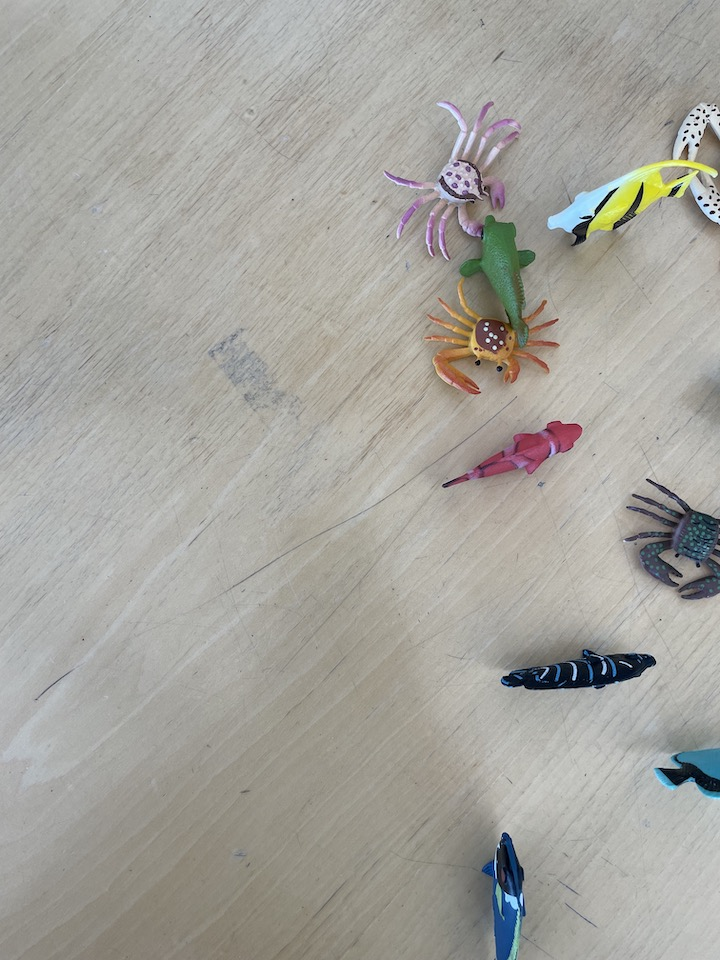crab: (384, 95, 527, 264), (418, 279, 559, 402), (620, 475, 720, 606), (671, 102, 720, 231)
danger: (542, 156, 720, 248)
fish: (439, 417, 586, 494), (454, 213, 537, 349), (499, 645, 658, 696), (479, 830, 533, 960), (650, 742, 720, 799)
